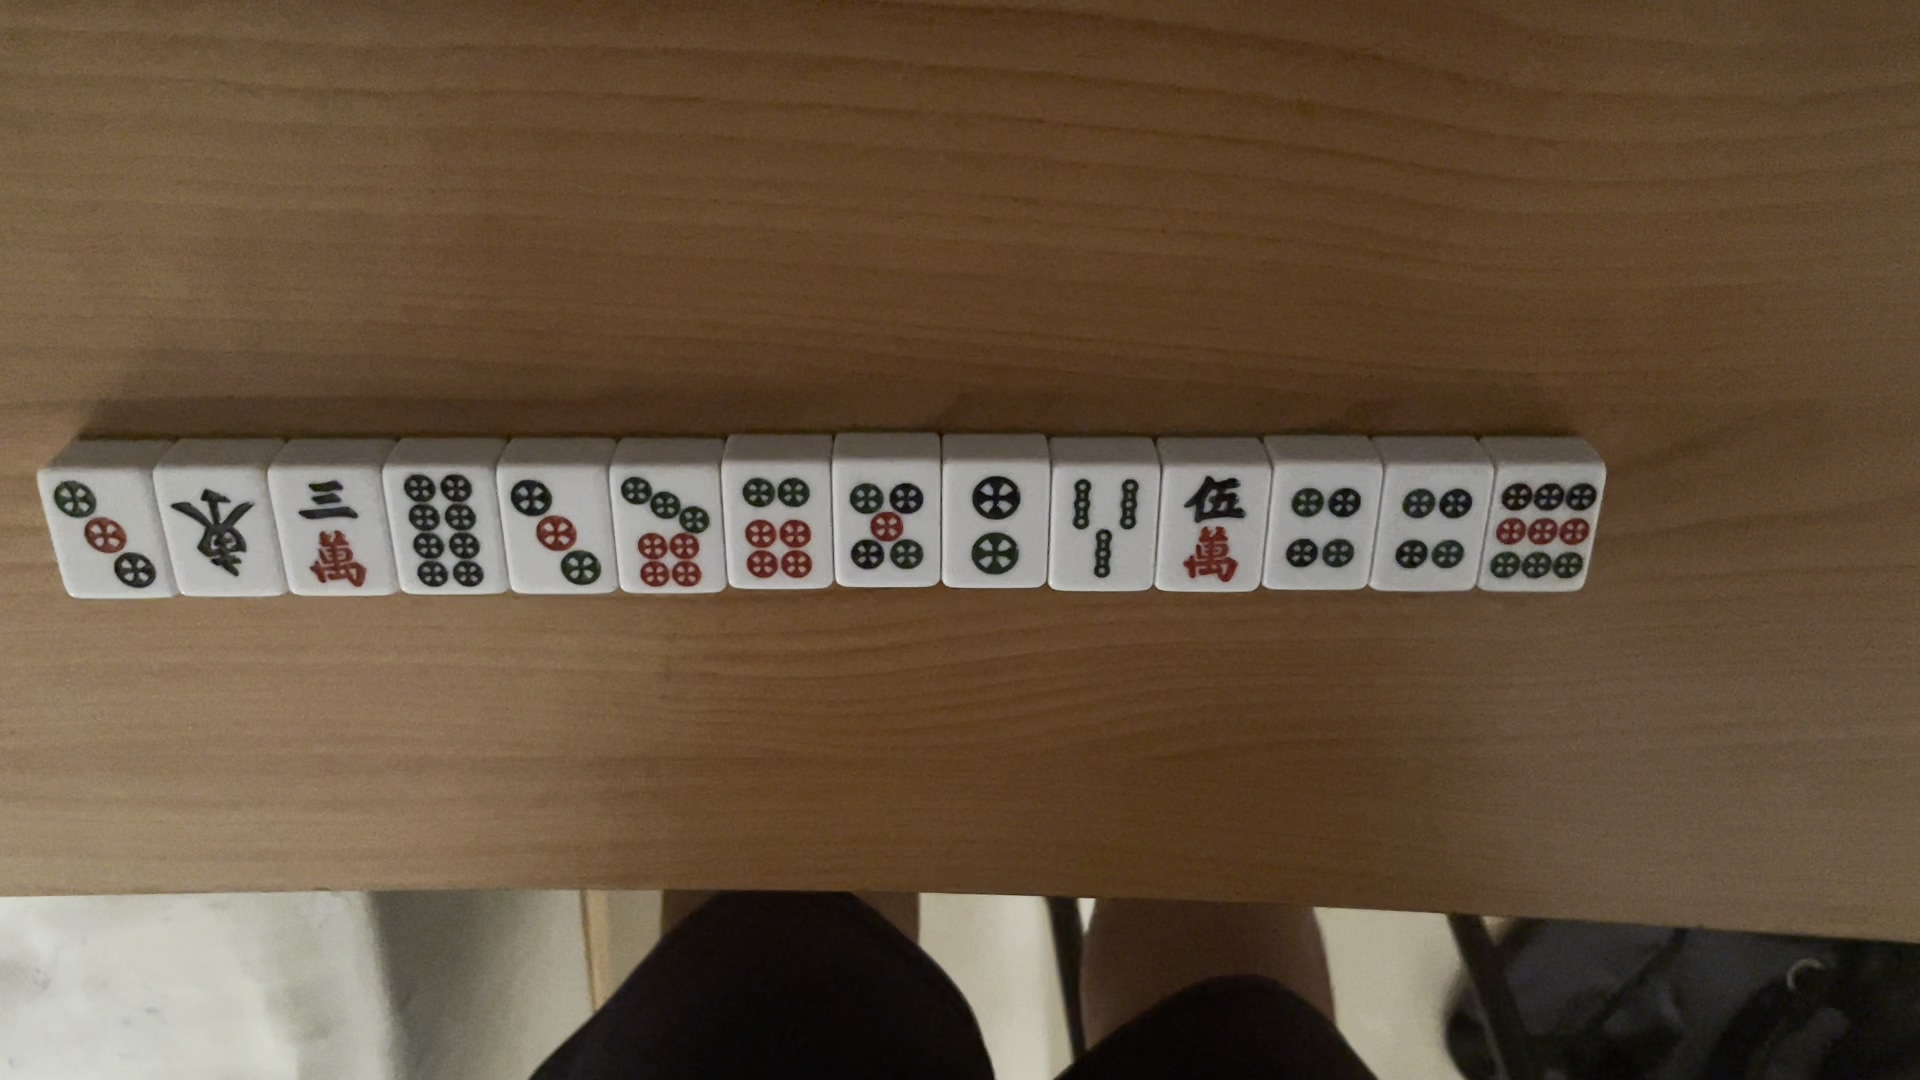b-3: (1064, 472, 1145, 583)
c-3: (289, 475, 376, 589)
c-5: (1178, 475, 1252, 588)
d-2: (958, 473, 1032, 579)
d-3: (48, 476, 160, 598), (510, 479, 603, 588)
d-4: (1389, 480, 1476, 575), (1278, 483, 1364, 576)
d-5: (842, 473, 929, 583)
d-6: (736, 475, 816, 588)
d-7: (613, 475, 719, 593)
d-8: (402, 469, 491, 595)
d-9: (1487, 479, 1600, 583)
honors-east: (171, 482, 267, 588)
